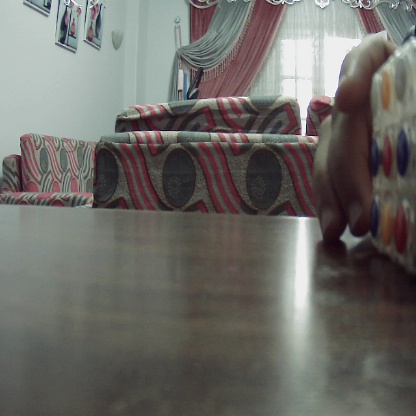Rubix Cube: (360, 40, 416, 267)
